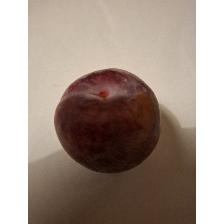Pflaume: (54, 61, 164, 176)
